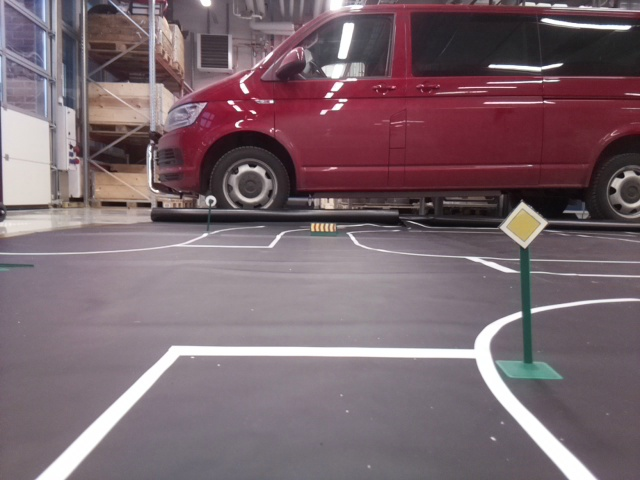Priority: (498, 201, 546, 246)
